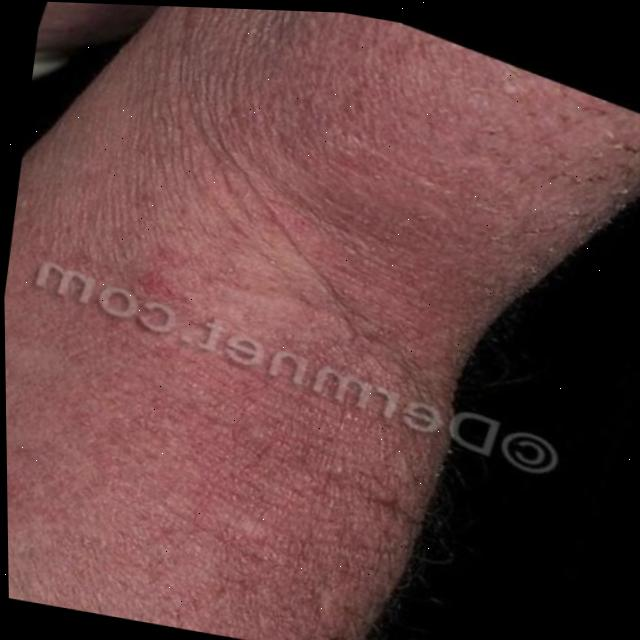Eczema: (46, 5, 502, 640)
